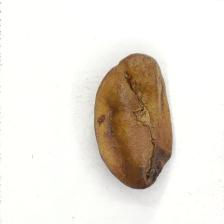NG: (111, 62, 170, 183)
